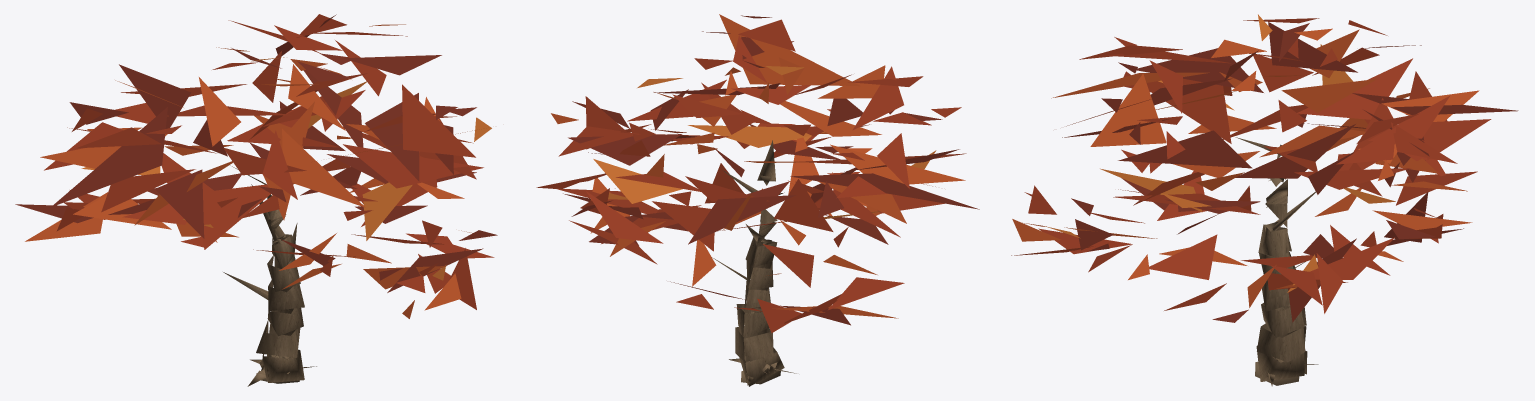
File: tree-maple-1.glb
3 renders of one model, left to right at view 1: azimuth 30°, elevation 25°; view 2: azimuth 150°, elevation 25°; view 3: azimuth 270°, elevation 25°, orthographic. The views are drawn at different scales.
Parts seen in each view (by area): view 1: 红枫 · 立体叶冠, 红枫 · 树干与枝系; view 2: 红枫 · 立体叶冠, 红枫 · 树干与枝系; view 3: 红枫 · 立体叶冠, 红枫 · 树干与枝系.
Part boxes in pixels (bbox=[...]): 红枫 · 立体叶冠: bbox=[15, 14, 497, 318]; 红枫 · 树干与枝系: bbox=[223, 165, 316, 386]; 红枫 · 立体叶冠: bbox=[536, 14, 979, 332]; 红枫 · 树干与枝系: bbox=[712, 140, 796, 386]; 红枫 · 立体叶冠: bbox=[1011, 14, 1518, 322]; 红枫 · 树干与枝系: bbox=[1235, 137, 1318, 386].
Bounding box in the file's own units: 8.68 × 6.17 × 8.33.
Materials: 5 (1 with a texture image).
